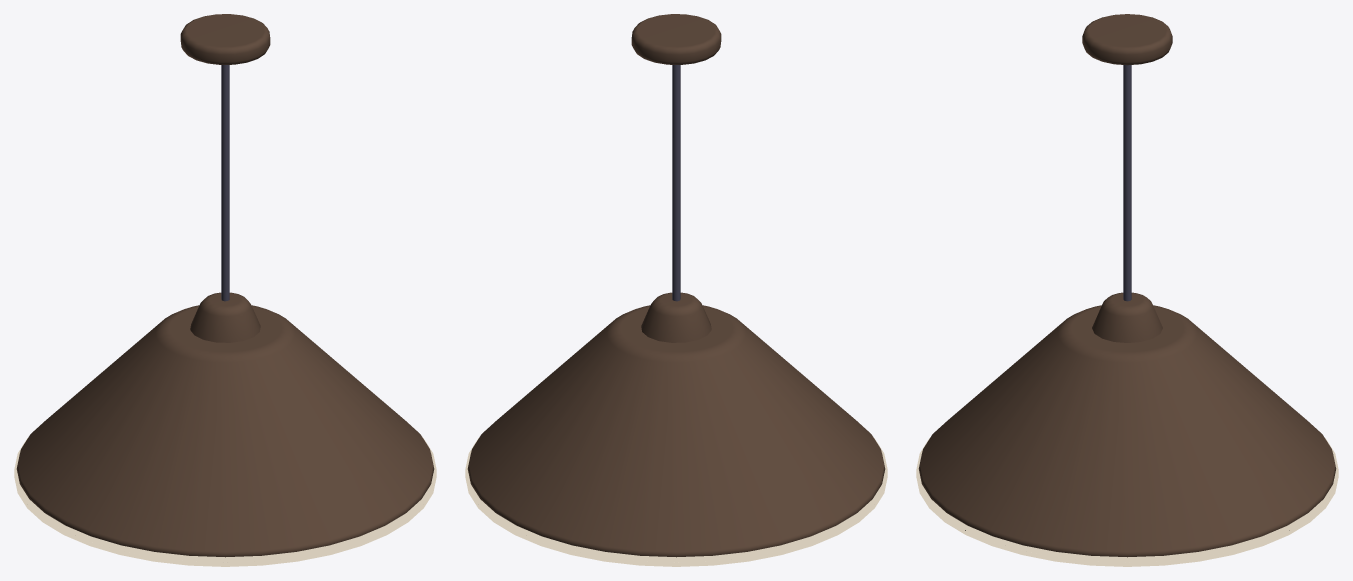
File: pendant.glb
3 renders of one model, left to right at view 1: azimuth 30°, elevation 25°; view 2: azimuth 150°, elevation 25°; view 3: azimuth 270°, elevation 25°, orthographic.
Parts seen in each view (by area): view 1: pendant; view 2: pendant; view 3: pendant.
Boxes of the visible parts, box(x1,y1,x2,y2) form: pendant: box(14, 14, 436, 566); pendant: box(465, 14, 887, 566); pendant: box(916, 14, 1338, 566).
Bounding box in the file's own units: 0.604 × 0.7064 × 0.604.
